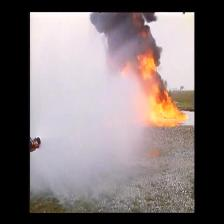fire: (108, 54, 190, 123)
smoke: (83, 13, 141, 49)
